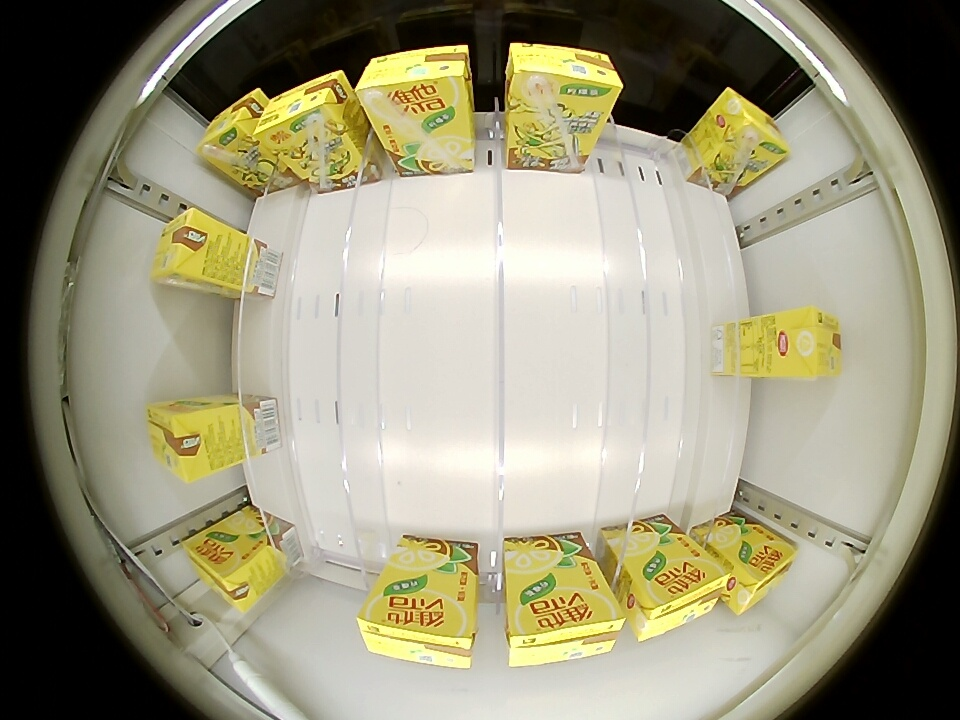weitaningmeng: (506, 586, 625, 668), (356, 590, 476, 669), (630, 552, 733, 644), (505, 42, 623, 121), (356, 44, 472, 123), (251, 70, 353, 157), (709, 88, 789, 176), (184, 528, 265, 612), (725, 531, 799, 616), (146, 398, 217, 482), (197, 88, 266, 171), (151, 207, 220, 287), (780, 306, 842, 378)
